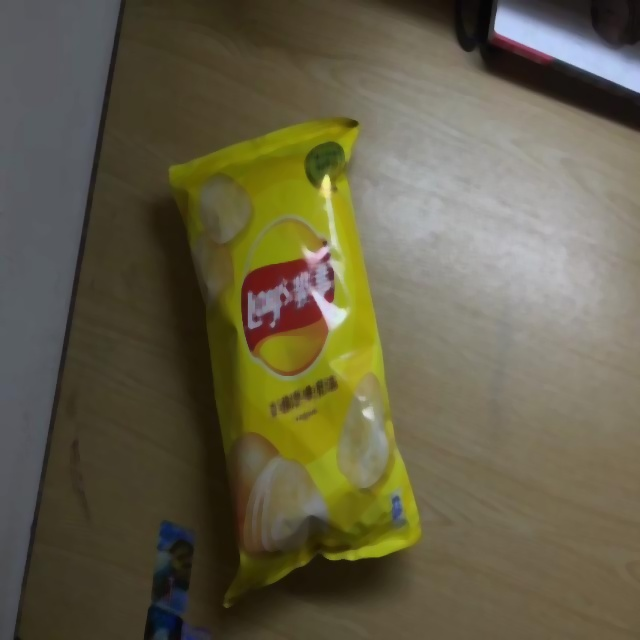Lay-s-original: (168, 119, 423, 609)
